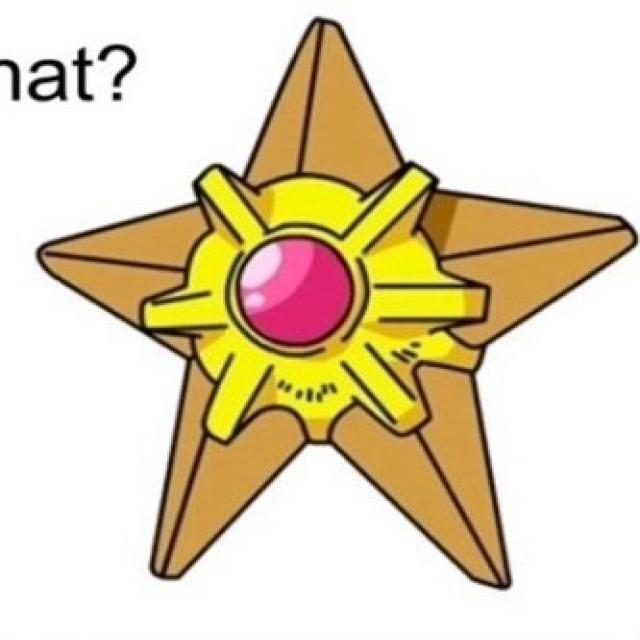Staryu: (64, 47, 606, 568)
